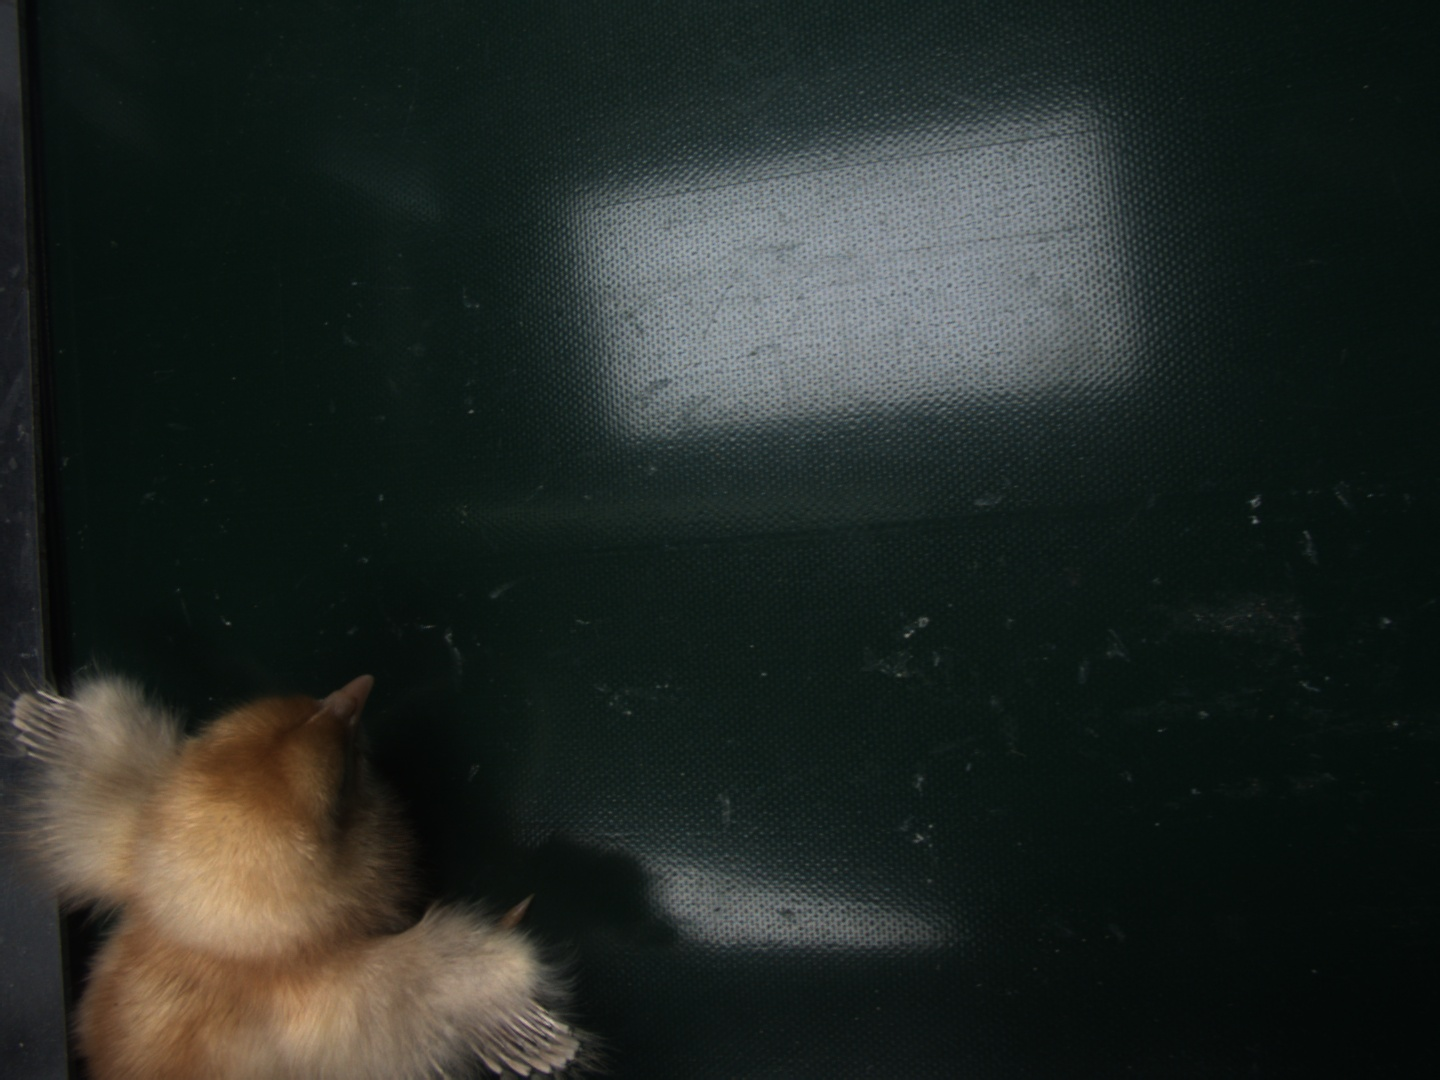female: (471, 994, 576, 1075)
